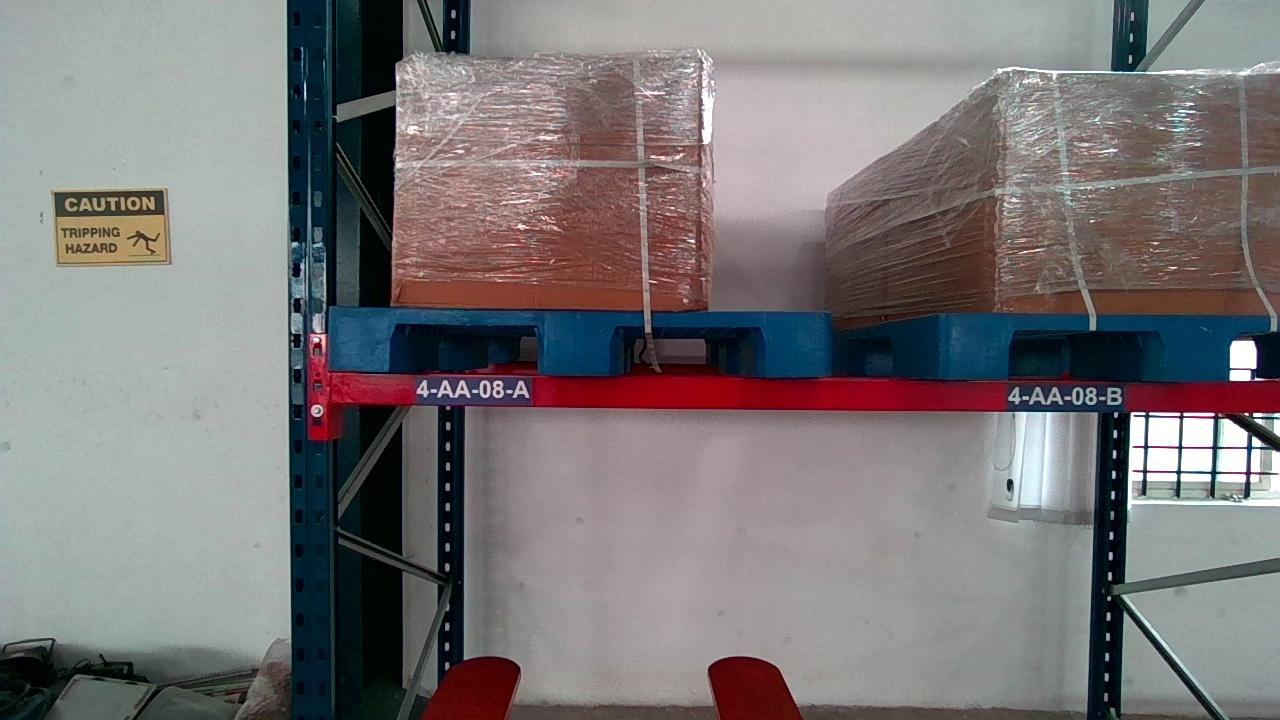h_rack: (329, 373, 1280, 413)
small_pallet: (329, 307, 828, 374), (947, 311, 1278, 380)
